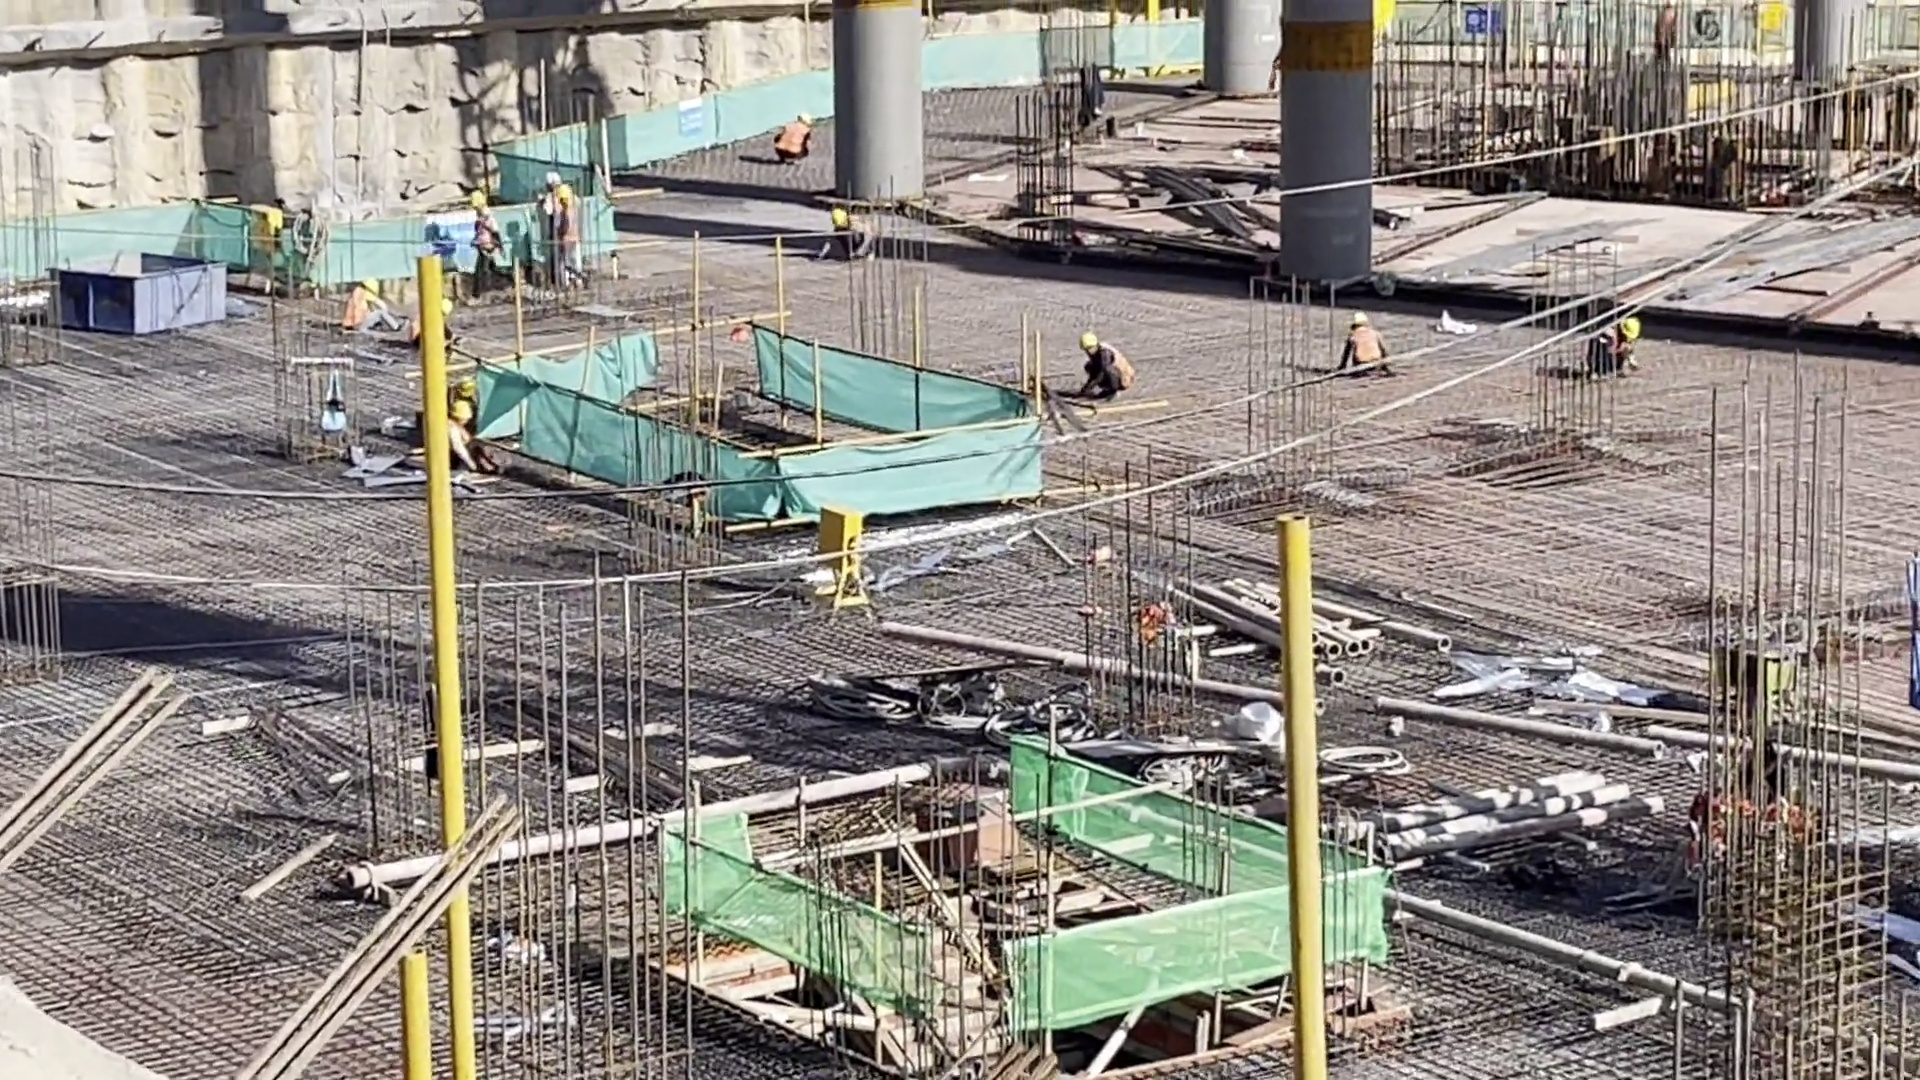helmet: (1621, 319, 1639, 342), (452, 402, 473, 419), (830, 207, 846, 228), (1078, 332, 1098, 350), (457, 376, 474, 397), (468, 191, 486, 209), (1350, 312, 1370, 327), (363, 279, 378, 294)
person: (1078, 329, 1135, 403), (543, 172, 581, 284), (467, 191, 501, 293), (823, 206, 877, 268), (342, 280, 394, 341), (1347, 310, 1389, 376), (1590, 319, 1639, 376), (773, 111, 815, 166)
vest: (551, 191, 577, 243), (774, 124, 806, 160), (1354, 326, 1378, 366), (344, 292, 365, 323)
